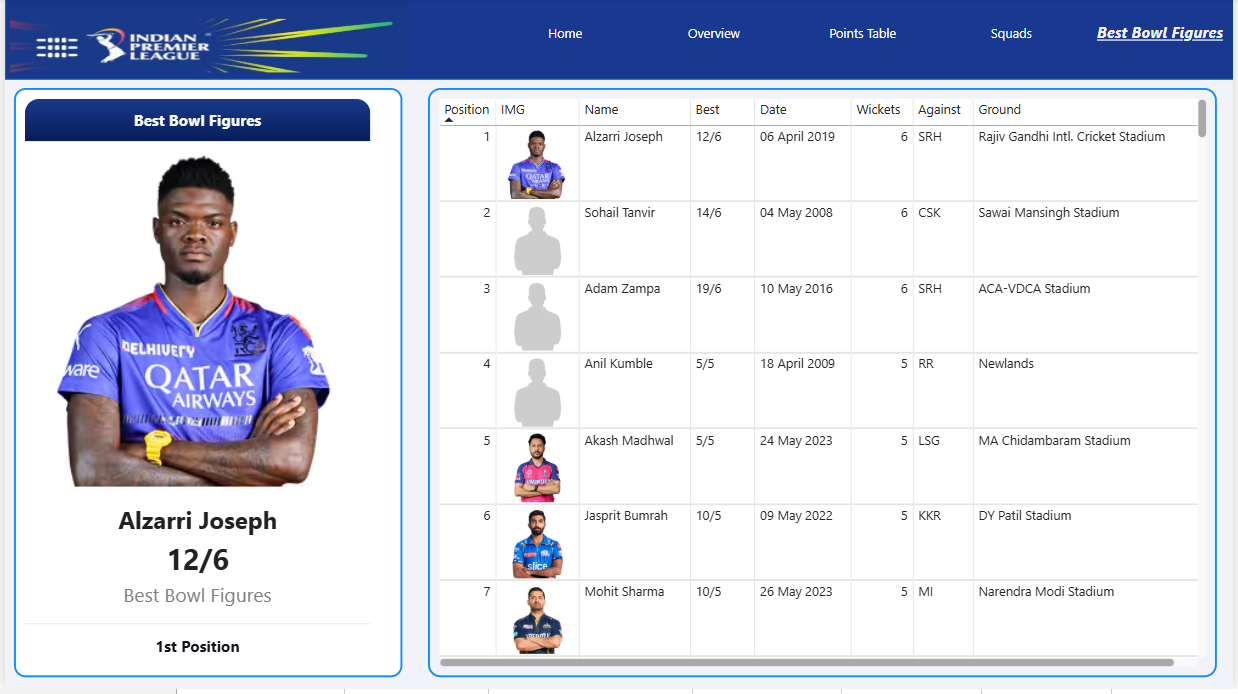

Layout of this report page (visuals, bound fields, positions):
{"tool":"powerbi","page":{"name":"Best Bowl Figures","canvas":[1280,720],"ordinal":7},"visuals":[{"type":"shape","box":[0,0,2000.6,85],"z":0,"group":"g1"},{"type":"htmlContent443BE3AD55E043BF878BED274D3A6855","fields":{"content":["Records.Top_Players"]},"box":[9.4,93.8,404.8,614.3],"z":0},{"type":"image","box":[0,1.6,425.1,81.3],"z":1000,"group":"g1"},{"type":"tableEx","fields":{"Values":["Best Bowling figure.Position","Best Bowling figure.IMG","Best Bowling figure.Name","Best Bowling figure.BBI","Best Bowling figure.Date","Best Bowling figure.Wickets","Best Bowling figure.Against","Best Bowling figure.Ground"]},"box":[440.8,93.8,822.1,614.3],"z":1000},{"type":"group","id":"g1","title":"Group 1","box":[0,0,2000.6,85],"z":2000},{"type":"pageNavigator","box":[511.1,12.5,765.9,46.9],"z":2000,"group":"g1"}]}

Visuals, with their boxes in screenshot pixels (x1, y1, x2, y2), scaled from the page's 1280x720 canvas onto the 1238x694 screenshot:
shape: l=0, t=0, r=1237, b=82
htmlContent443BE3AD55E043BF878BED274D3A6855 - Records.Top_Players: l=9, t=90, r=401, b=683
image: l=0, t=2, r=411, b=80
tableEx - Best Bowling figure.Position x Best Bowling figure.IMG: l=426, t=90, r=1221, b=683
"Group 1" group: l=0, t=0, r=1237, b=82
pageNavigator: l=494, t=12, r=1235, b=57
